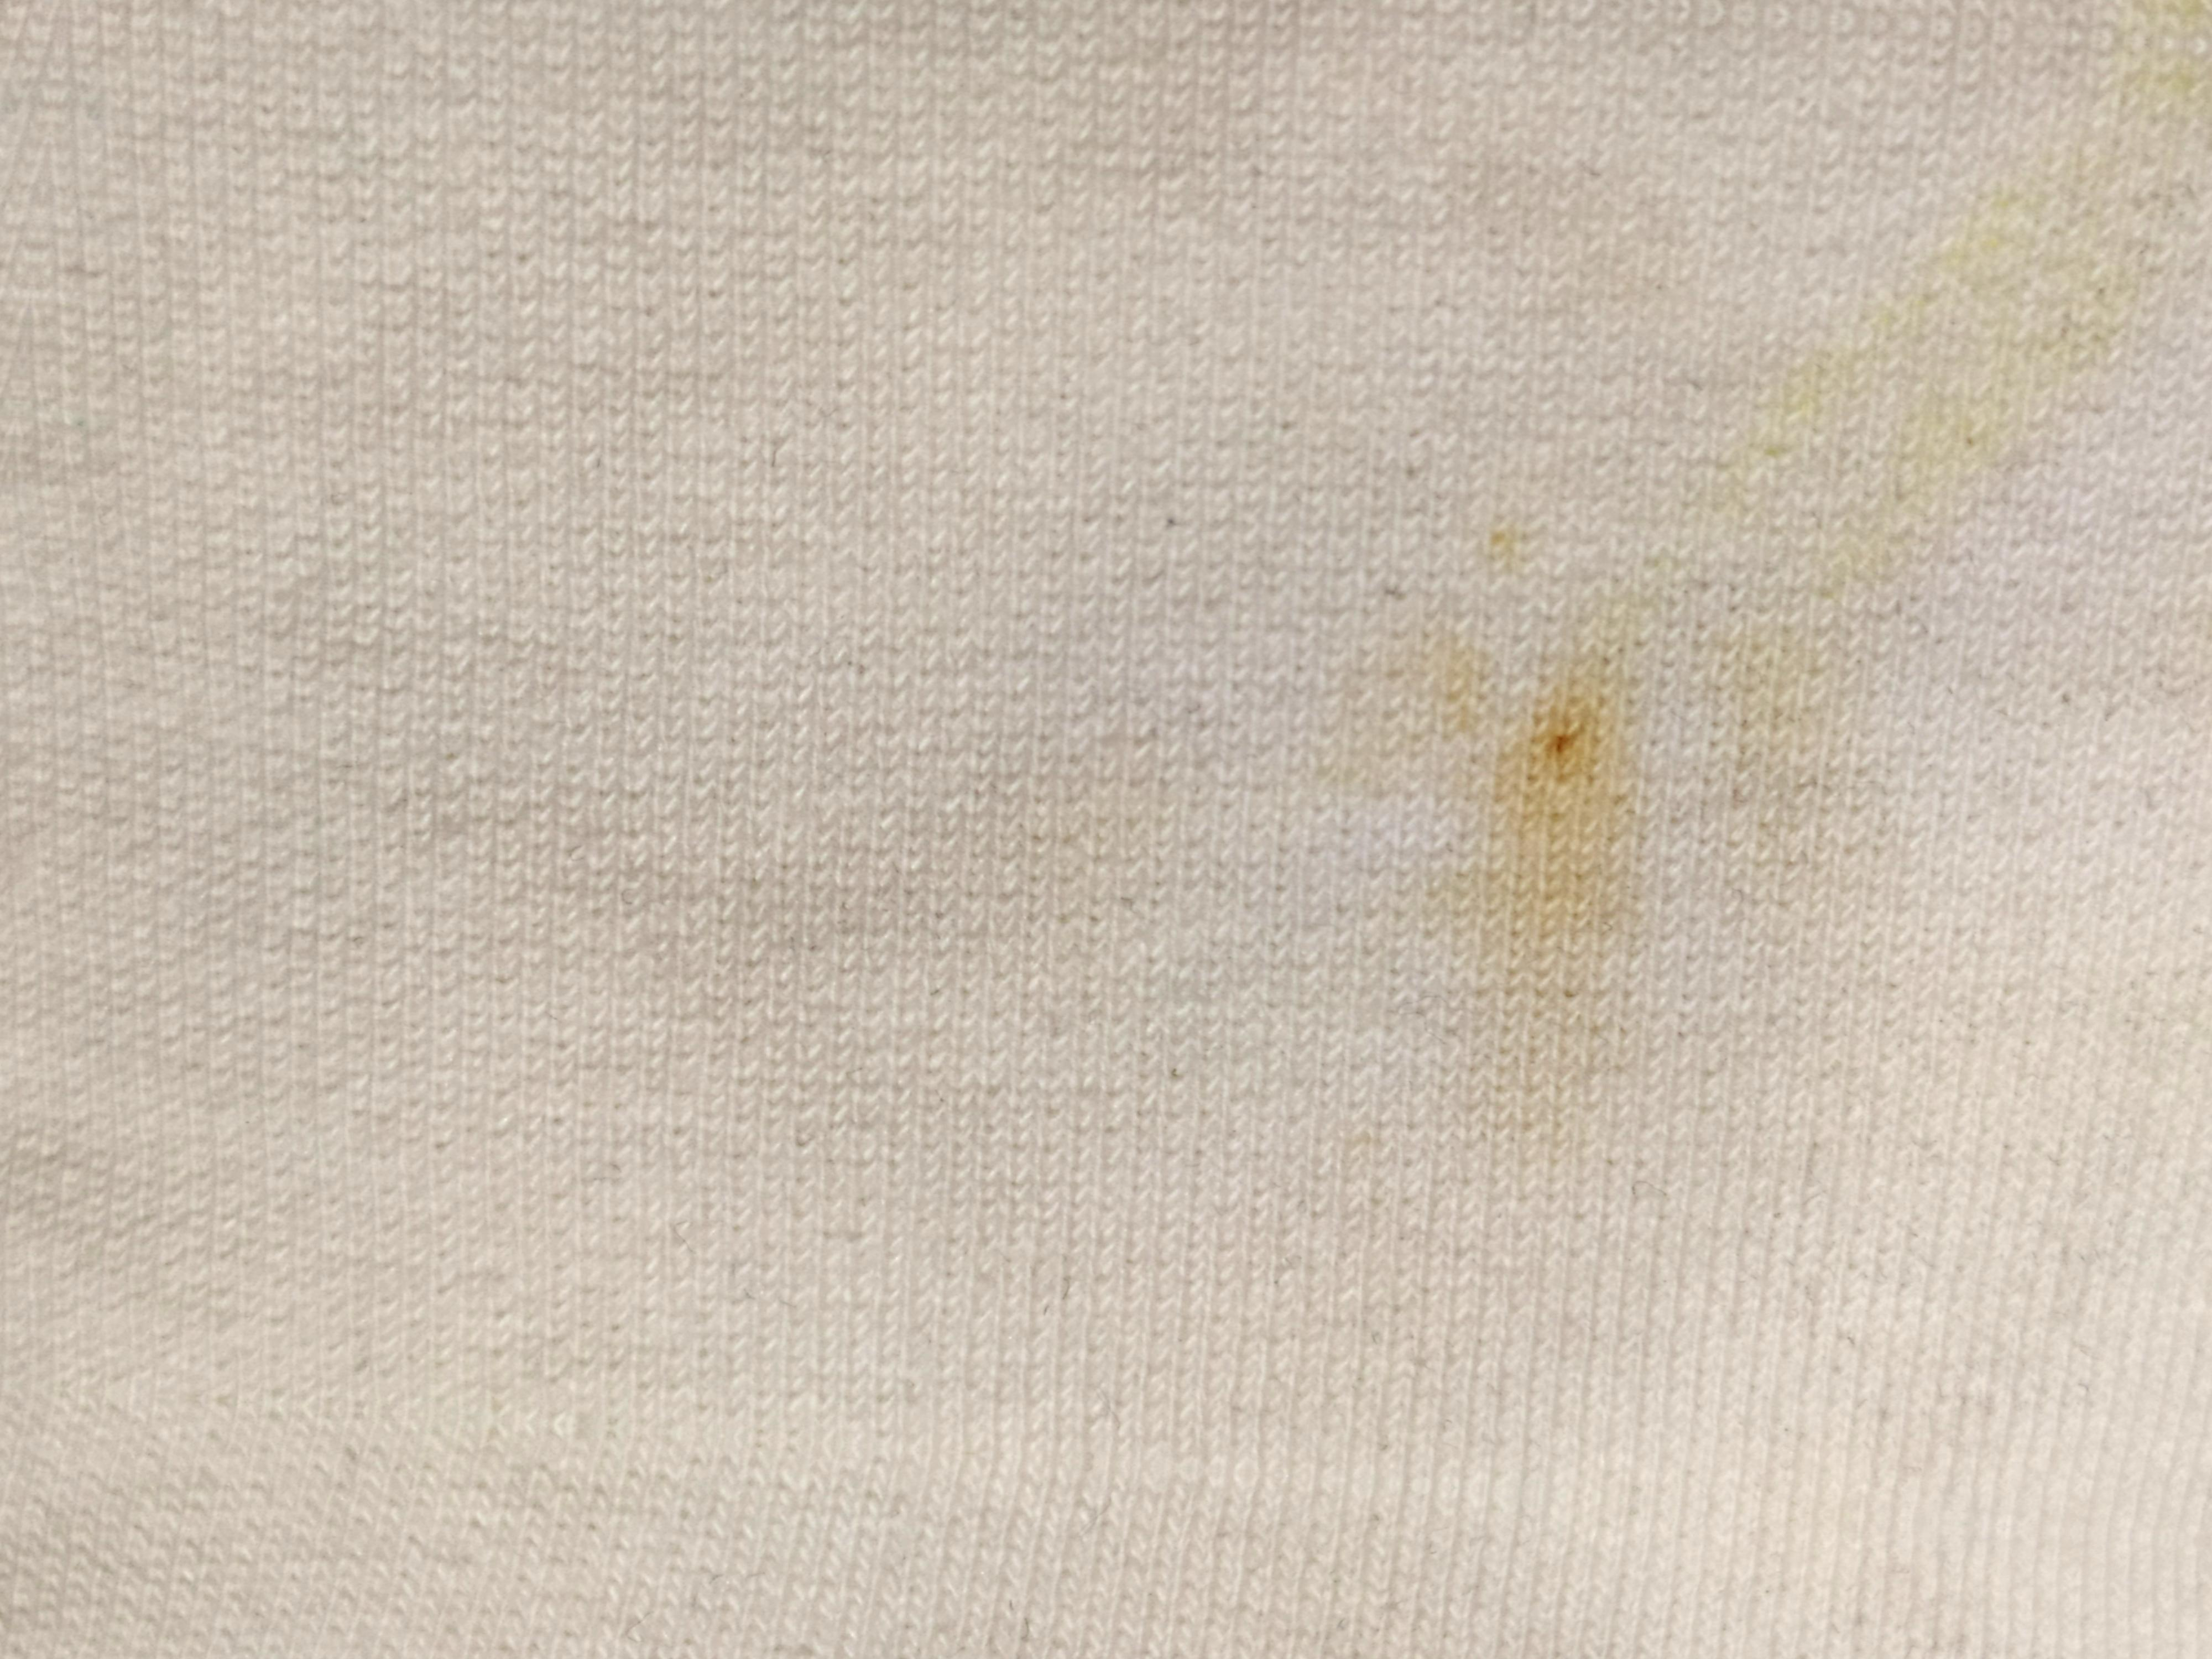stain: (1489, 641, 1660, 971)
